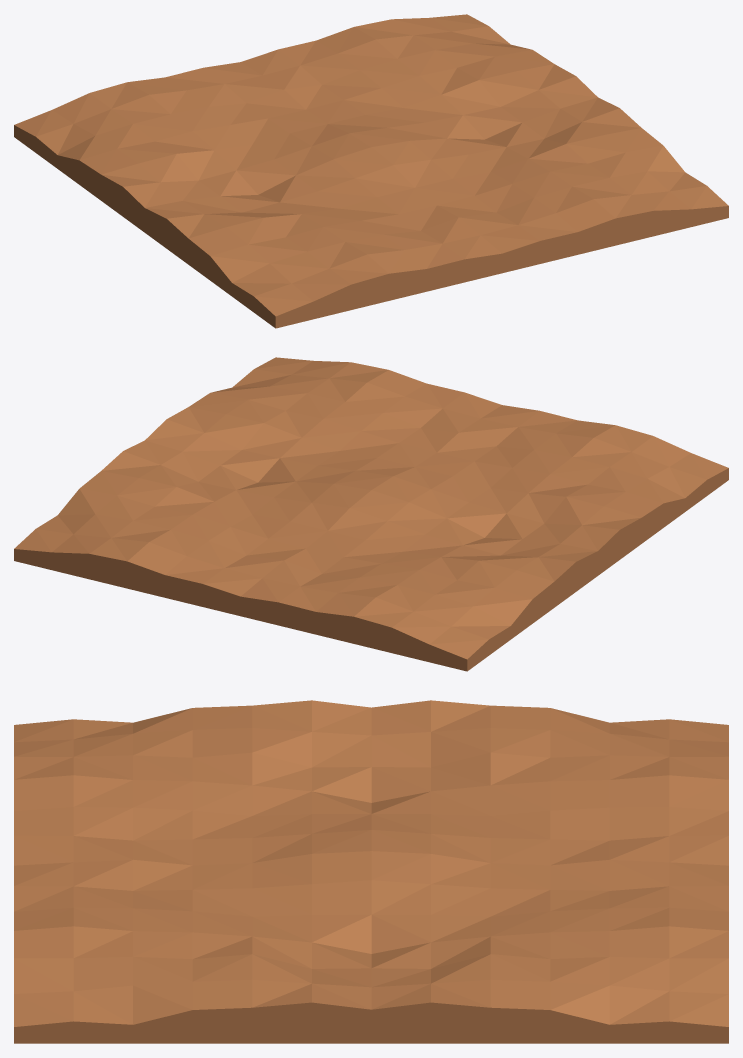
File: Terrain Dessert  2.fbx
3 renders of one model, top to bottom at view 1: azimuth 30°, elevation 25°; view 2: azimuth 150°, elevation 25°; view 3: azimuth 270°, elevation 25°, orthographic. The views are drawn at different scales.
Parts seen in each view (by area): view 1: Cube.007; view 2: Cube.007; view 3: Cube.007.
Boxes of the visible parts, box(x1,y1,x2,y2) form: Cube.007: box(14, 14, 728, 328); Cube.007: box(14, 357, 728, 671); Cube.007: box(14, 700, 728, 1043).
Size of the model in its own units: 16 by 1.03 by 16.
